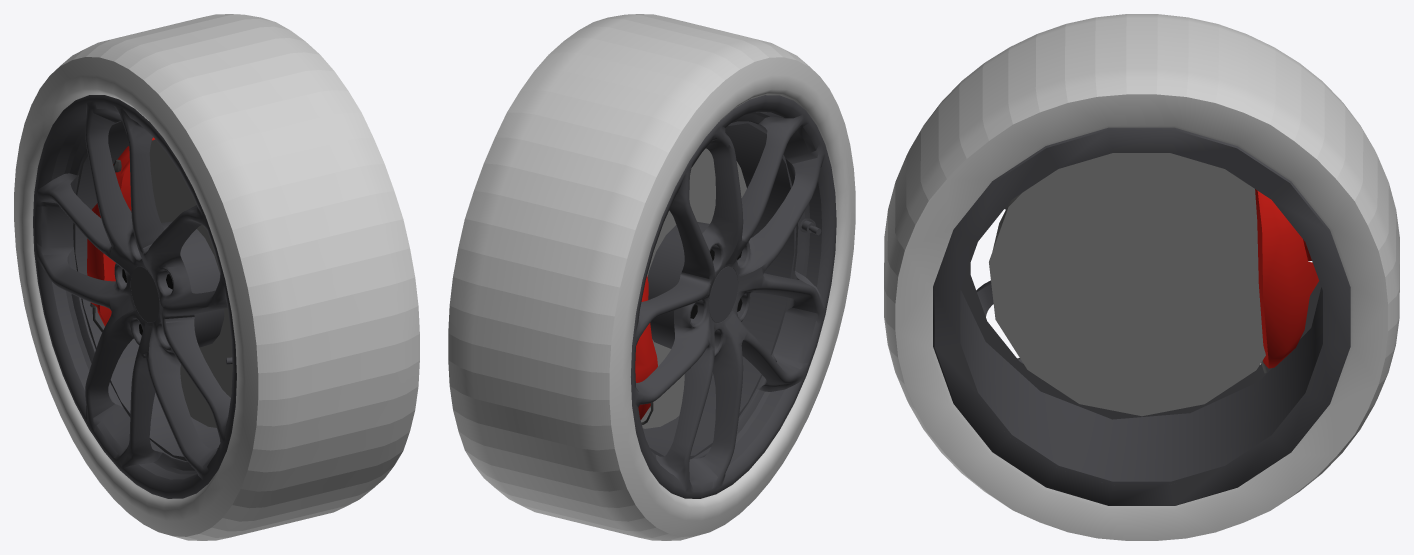
File: disk_3.gltf
3 views of the same model, side by side, from view 1: azimuth 30°, elevation 25°; view 2: azimuth 150°, elevation 25°; view 3: azimuth 270°, elevation 25° (orthographic).
Visible parts, largest first — view 1: Object_157, Object_156, Object_159, Object_161; view 2: Object_157, Object_156, Object_159, Object_161; view 3: Object_157, Object_159, Object_156, Object_161.
Part boxes in pixels (box(x1,y1,x2,y2)): Object_157: box(14, 14, 419, 540); Object_156: box(33, 95, 236, 498); Object_159: box(149, 139, 232, 427); Object_161: box(87, 137, 154, 326); Object_157: box(448, 14, 855, 540); Object_156: box(631, 95, 836, 498); Object_159: box(640, 148, 746, 428); Object_161: box(635, 275, 657, 419); Object_157: box(884, 14, 1399, 540); Object_159: box(989, 153, 1265, 416); Object_156: box(933, 127, 1350, 505); Object_161: box(1255, 189, 1319, 368).
Size of the model in its own units: 0.8244 by 2.16 by 2.16.
